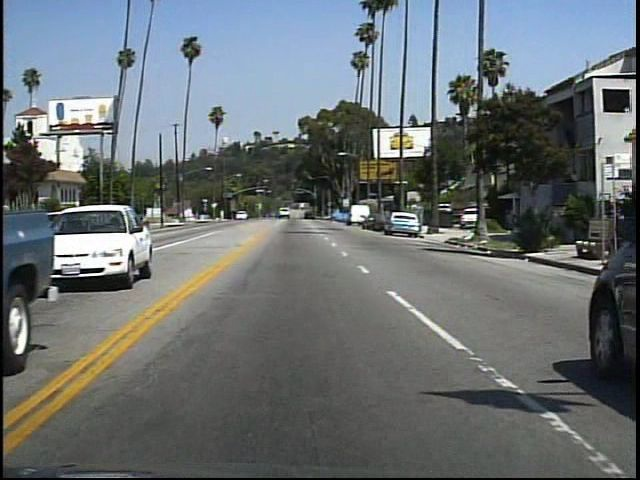person: (520, 198, 545, 252)
